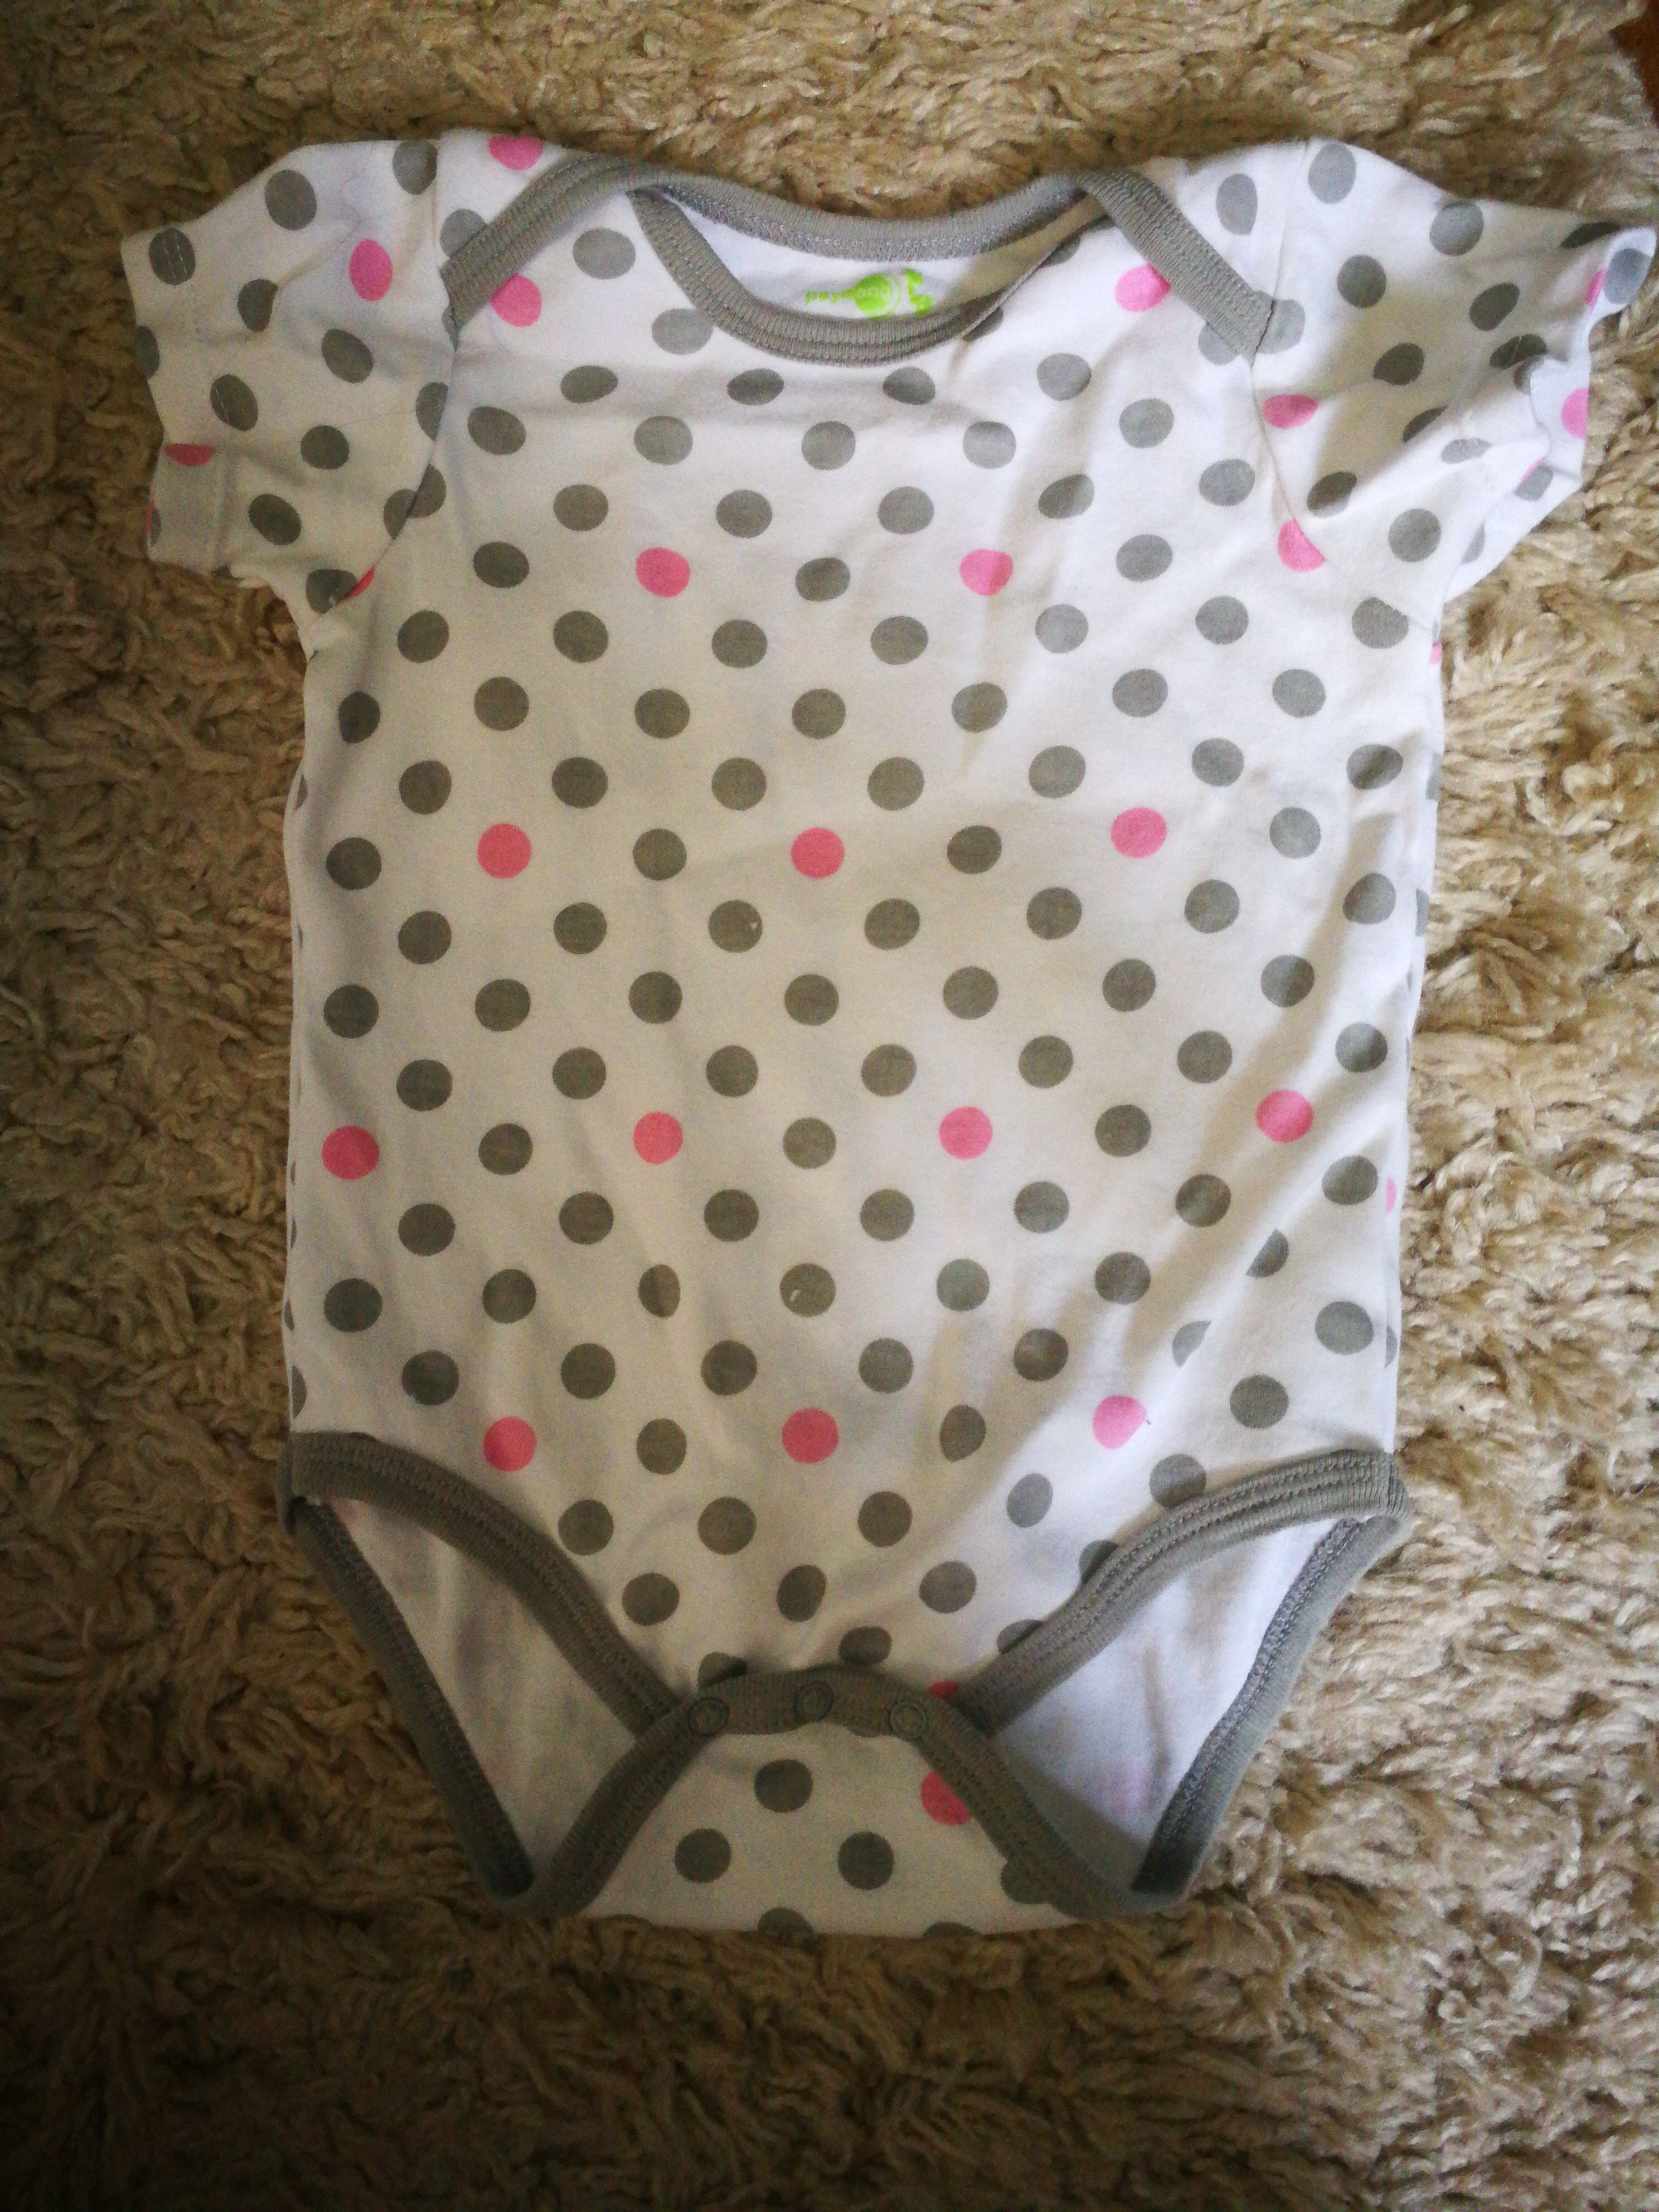clothes: (106, 115, 1570, 1919)
